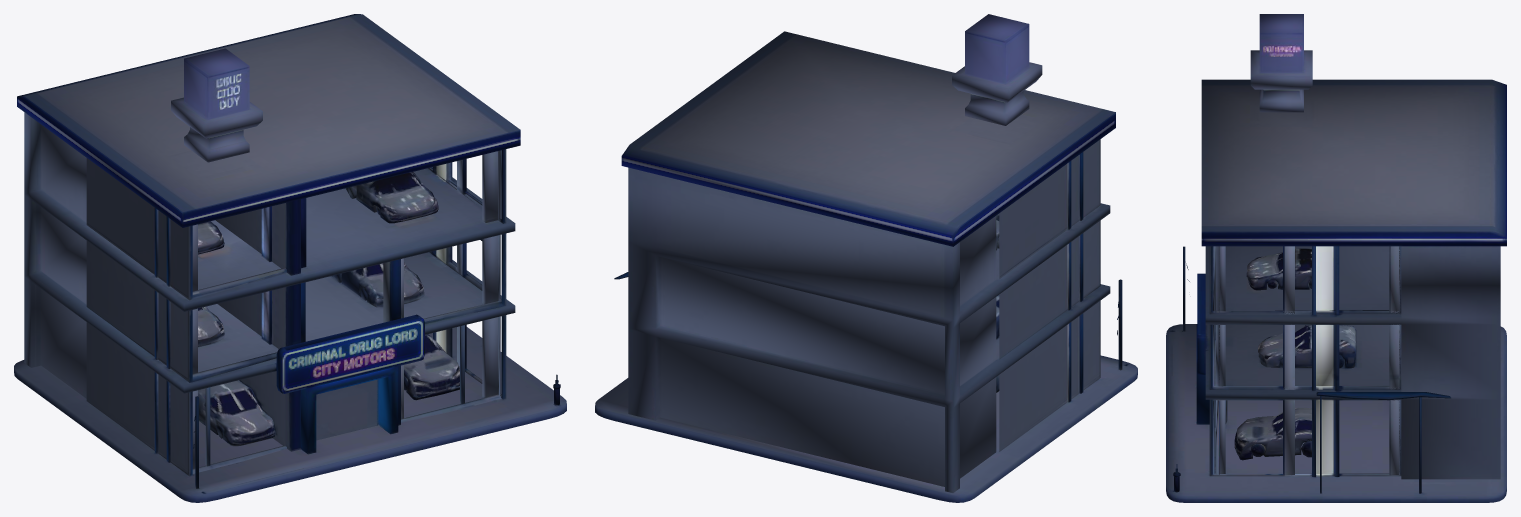
The picture shows the model from 3 angles, left to right: view 1: azimuth 30°, elevation 25°; view 2: azimuth 150°, elevation 25°; view 3: azimuth 270°, elevation 25°; orthographic projection. The views are drawn at different scales.
Parts seen in each view (by area): view 1: tripo_node_35239a64-c871-47ac-a1ce-9a2c47b21986; view 2: tripo_node_35239a64-c871-47ac-a1ce-9a2c47b21986; view 3: tripo_node_35239a64-c871-47ac-a1ce-9a2c47b21986.
Part boxes in pixels (left/top/right/bottom): tripo_node_35239a64-c871-47ac-a1ce-9a2c47b21986: left=14, top=14, right=566, bottom=502; tripo_node_35239a64-c871-47ac-a1ce-9a2c47b21986: left=595, top=14, right=1137, bottom=502; tripo_node_35239a64-c871-47ac-a1ce-9a2c47b21986: left=1166, top=14, right=1506, bottom=502.
Bounding box in the file's own units: 0.998 × 0.9277 × 0.8262.
Materials: 1 (1 with a texture image).
